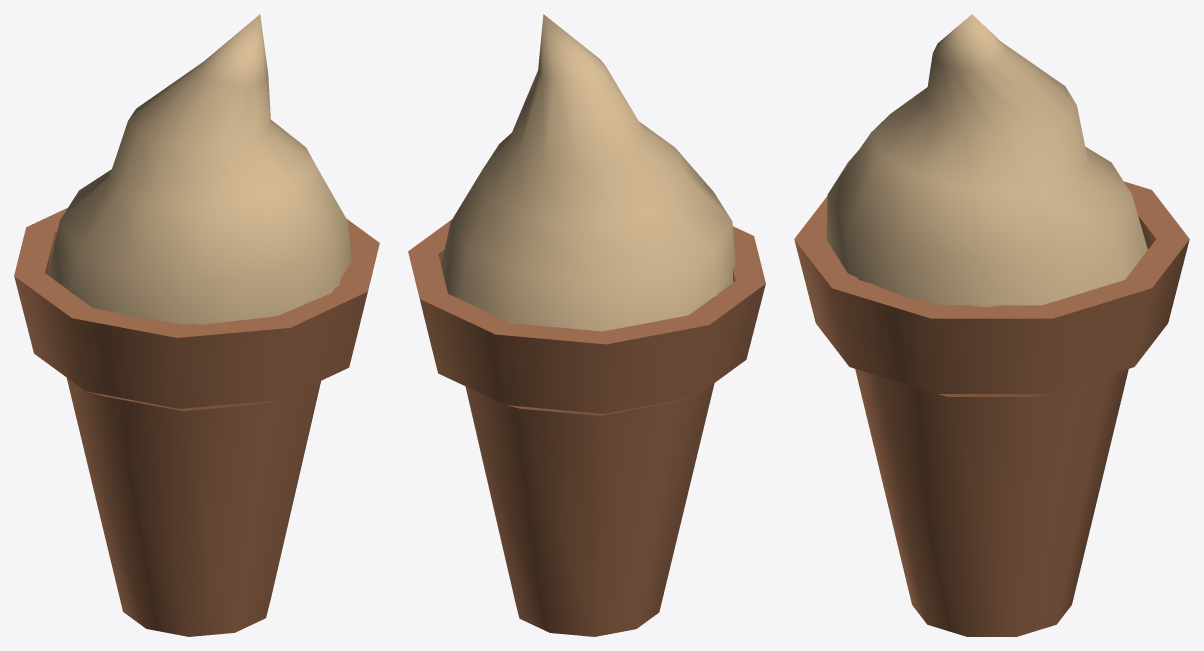
The model's file is IceCreamCone_02.fbx.
3 renders of one model, left to right at view 1: azimuth 30°, elevation 25°; view 2: azimuth 150°, elevation 25°; view 3: azimuth 270°, elevation 25°, orthographic. The views are drawn at different scales.
Parts seen in each view (by area): view 1: IceCreamCone_02; view 2: IceCreamCone_02; view 3: IceCreamCone_02.
Part boxes in pixels (x1,y1,x2,y2): IceCreamCone_02: (14,14,379,636); IceCreamCone_02: (408,14,765,636); IceCreamCone_02: (794,14,1189,636).
Bounding box in the file's own units: 0.0721 × 0.1309 × 0.0758.
